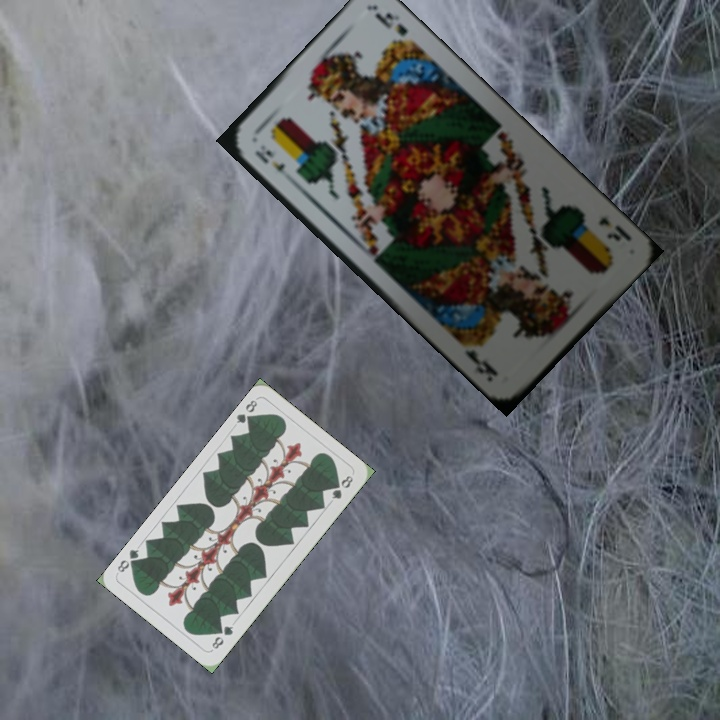EK: (250, 145, 295, 184), (594, 213, 635, 244)
G8: (232, 396, 260, 428), (208, 622, 236, 652)
